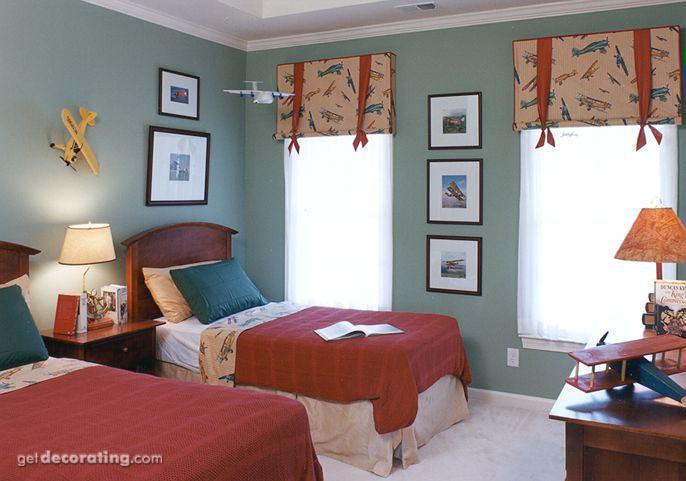Cama: (123, 224, 471, 473), (1, 233, 320, 479)
Ventana: (523, 87, 652, 342), (283, 103, 391, 307)
